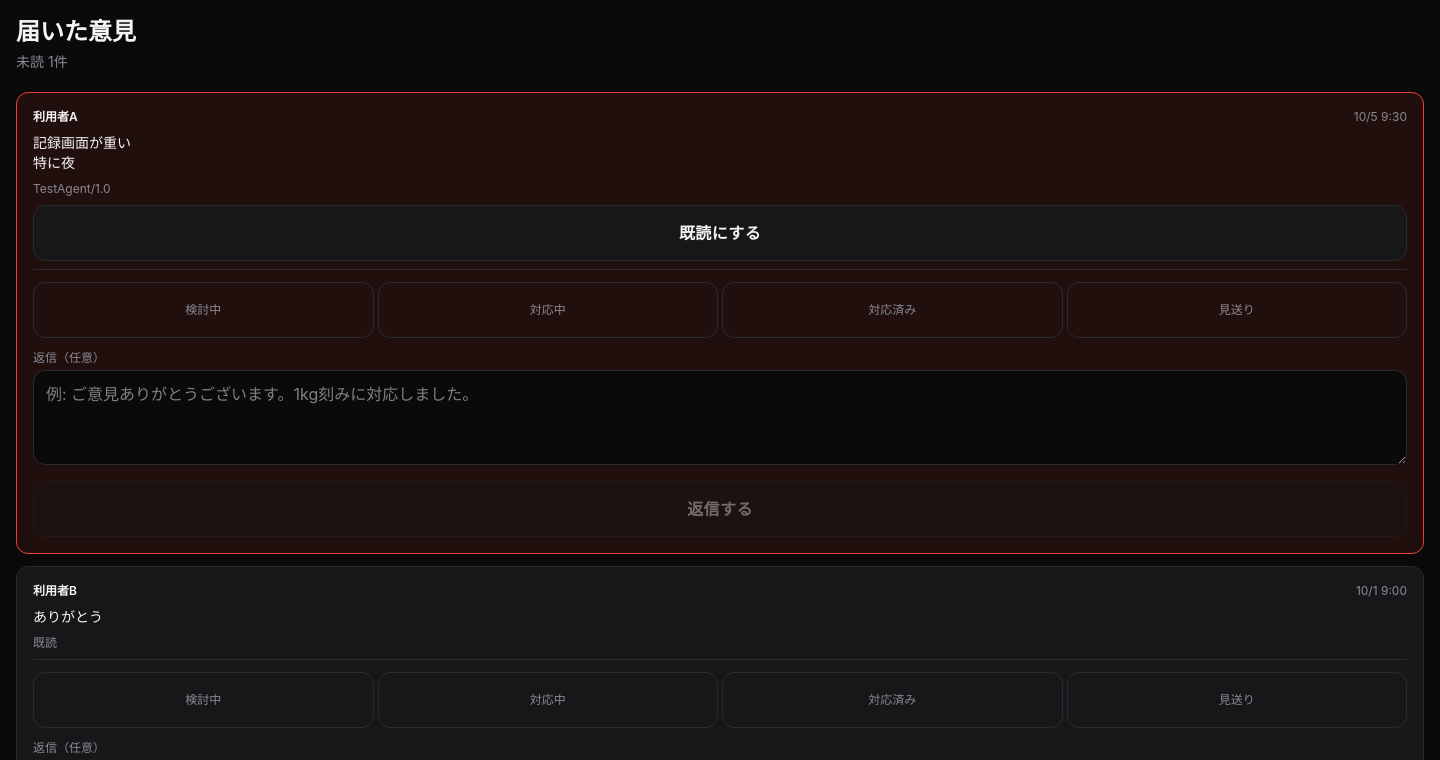
Test case: AdminFeedbackPage › keeps the answer and shows why when saving fails
expect the heading "届いた意見" is shown: met, box top-left (16, 17), bottom-right (136, 46)
Click the 1st button "対応済み".
click(892, 310)  # box top-left (722, 282), bottom-right (1062, 338)
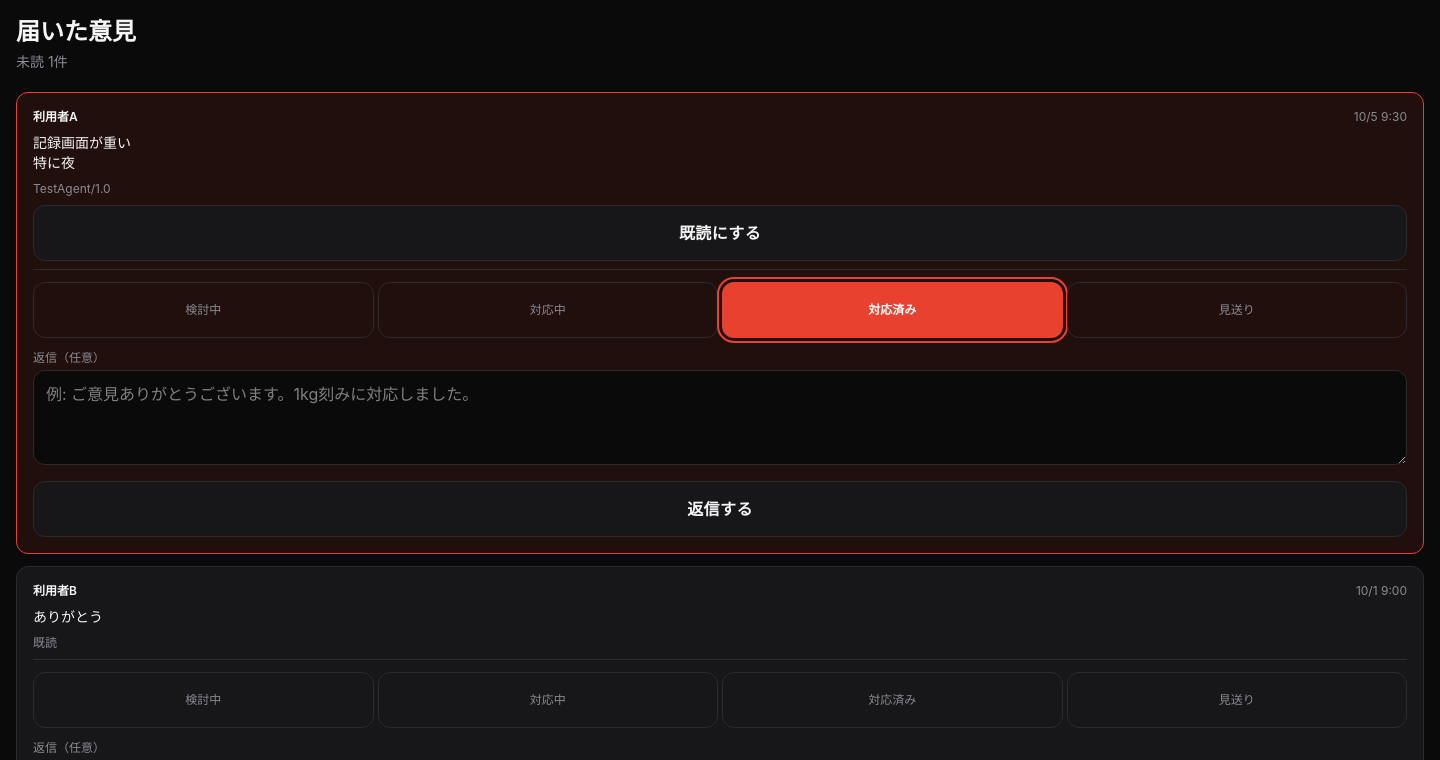
Type "直しました" into the text box labelled "返信（任意）" below "利用者A".
click(720, 417); type("直しました")  # box top-left (33, 370), bottom-right (1407, 464)
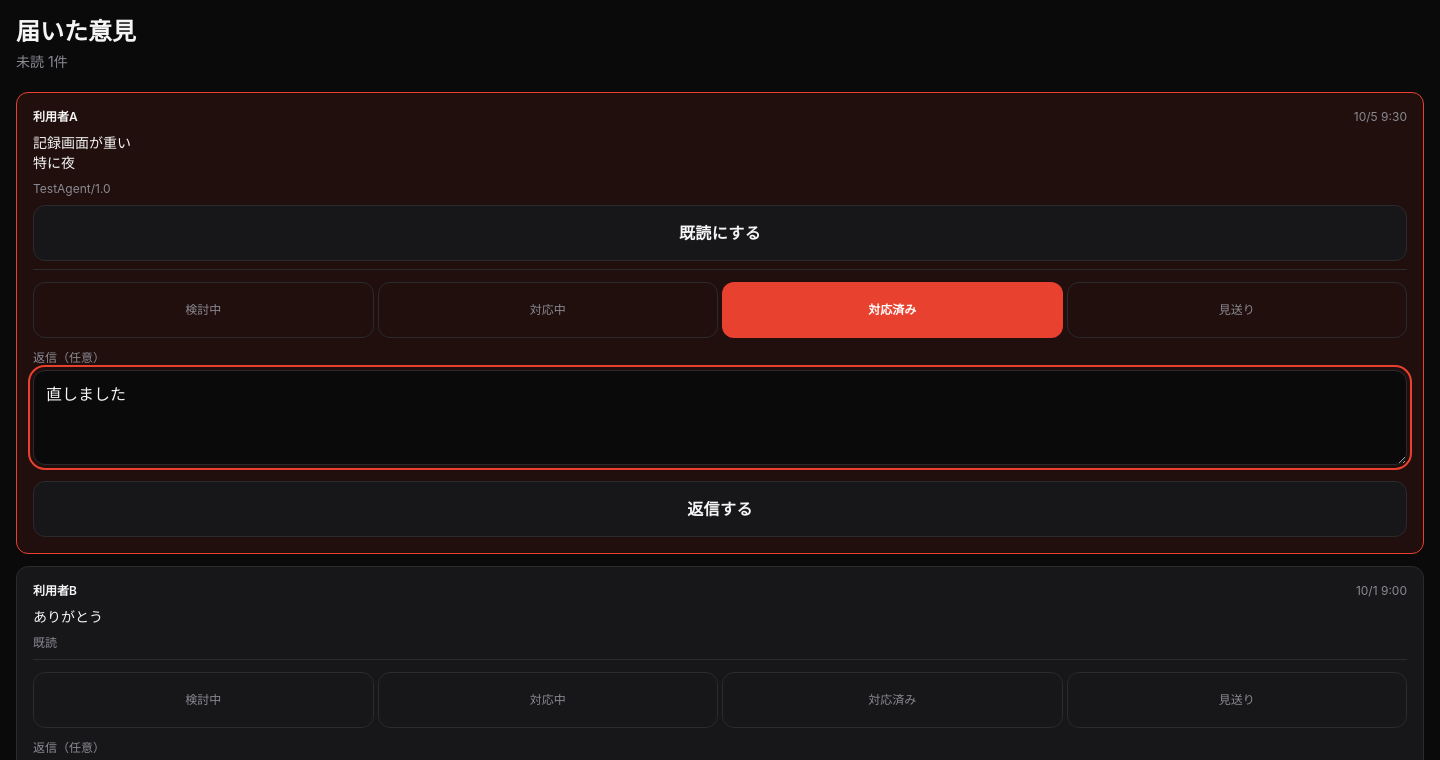
Click the button "返信する".
click(720, 508)  # box top-left (33, 480), bottom-right (1407, 536)
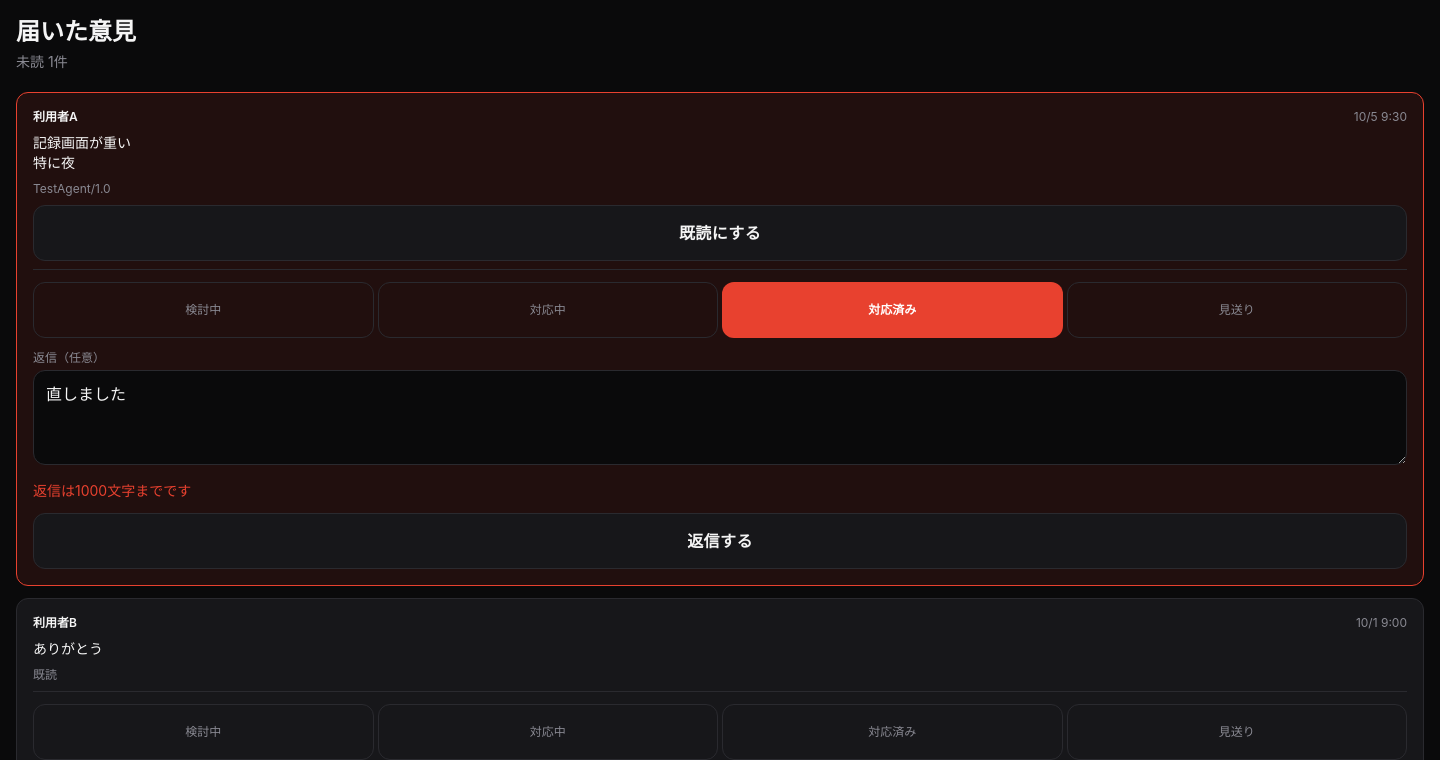
expect the message reads "返信は1000文字までです": met, box top-left (33, 482), bottom-right (191, 498)
